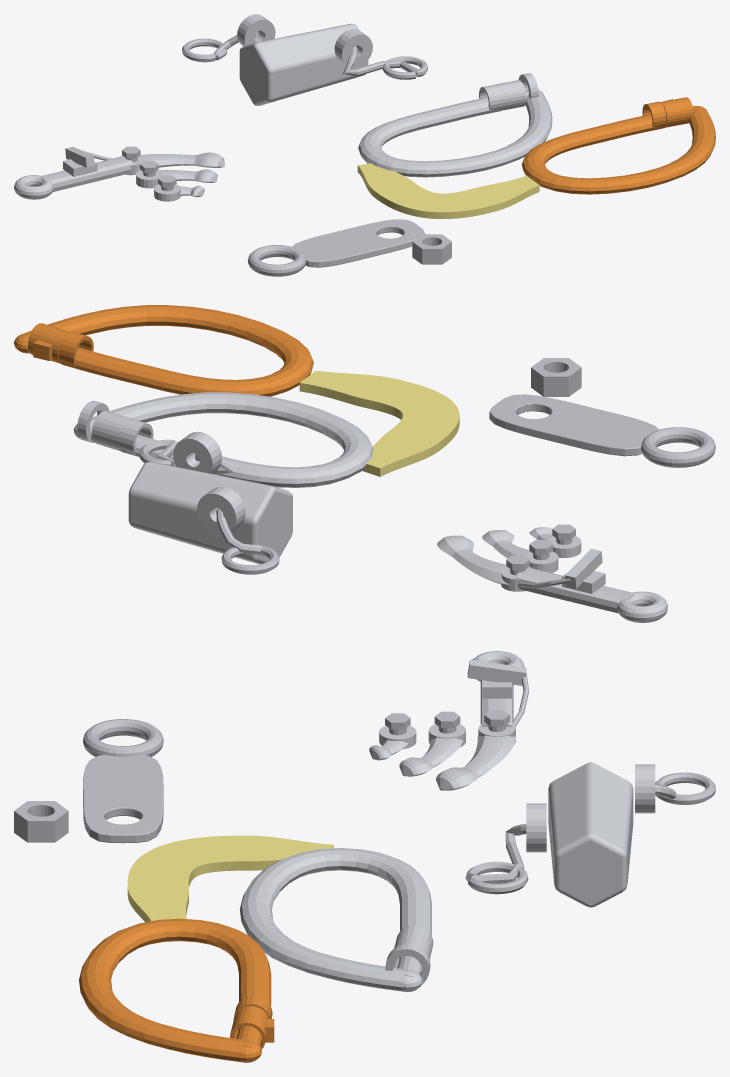
The model's file is protection_set.fbx.
3 views of the same model, one above another, from view 1: azimuth 30°, elevation 25°; view 2: azimuth 150°, elevation 25°; view 3: azimuth 270°, elevation 25° (orthographic). The views are drawn at different scales.
Visible parts, largest first — view 1: PROT_Nut_Body, PROT_Quickdraw_BinerTop, PROT_Quickdraw_BinerBottom, PROT_Quickdraw_Sling, PROT_BoltHanger_Plate, PROT_Cam_Lobes, PROT_Nut_Eyes, PROT_Cam_Stem, PROT_BoltHanger_Eye, PROT_BoltHanger_Nut, PROT_Cam_Trigger; view 2: PROT_Nut_Body, PROT_Quickdraw_BinerBottom, PROT_Quickdraw_BinerTop, PROT_Quickdraw_Sling, PROT_BoltHanger_Plate, PROT_Cam_Lobes, PROT_Cam_Stem, PROT_Nut_Eyes, PROT_BoltHanger_Eye, PROT_BoltHanger_Nut, PROT_Cam_Trigger; view 3: PROT_Quickdraw_BinerBottom, PROT_Quickdraw_BinerTop, PROT_Nut_Body, PROT_Quickdraw_Sling, PROT_BoltHanger_Plate, PROT_Cam_Lobes, PROT_Nut_Eyes, PROT_BoltHanger_Eye, PROT_BoltHanger_Nut, PROT_Cam_Trigger, PROT_Cam_Stem.
Part boxes in pixels (x1,y1,x2,y2): PROT_Nut_Body: (237,14,372,105); PROT_Quickdraw_BinerTop: (358,73,552,177); PROT_Quickdraw_BinerBottom: (521,97,715,194); PROT_Quickdraw_Sling: (357,163,539,218); PROT_BoltHanger_Plate: (292,219,425,267); PROT_Cam_Lobes: (121,146,224,201); PROT_Nut_Eyes: (182,32,427,79); PROT_Cam_Stem: (14,156,133,199); PROT_BoltHanger_Eye: (248,245,306,276); PROT_BoltHanger_Nut: (412,234,451,264); PROT_Cam_Trigger: (63,146,97,176); PROT_Nut_Body: (128,431,292,564); PROT_Quickdraw_BinerBottom: (14,305,313,396); PROT_Quickdraw_BinerTop: (73,392,373,487); PROT_Quickdraw_Sling: (299,370,459,476); PROT_BoltHanger_Plate: (489,394,658,456); PROT_Cam_Lobes: (437,524,581,591); PROT_Cam_Stem: (514,567,667,622); PROT_Nut_Eyes: (139,439,279,574); PROT_BoltHanger_Eye: (641,427,715,467); PROT_BoltHanger_Nut: (531,358,581,396); PROT_Cam_Trigger: (562,548,605,593); PROT_Quickdraw_BinerBottom: (79,918,274,1062); PROT_Quickdraw_BinerTop: (239,848,433,992); PROT_Nut_Body: (526,762,655,907); PROT_Quickdraw_Sling: (127,835,333,922); PROT_BoltHanger_Plate: (83,755,163,843); PROT_Cam_Lobes: (369,710,516,790); PROT_Nut_Eyes: (465,772,715,894); PROT_BoltHanger_Eye: (83,719,163,756); PROT_BoltHanger_Nut: (14,801,68,842); PROT_Cam_Trigger: (467,659,526,698); PROT_Cam_Stem: (472,651,524,726).
Bounding box in the file's own units: 0.2963 × 0.0327 × 0.2182.
